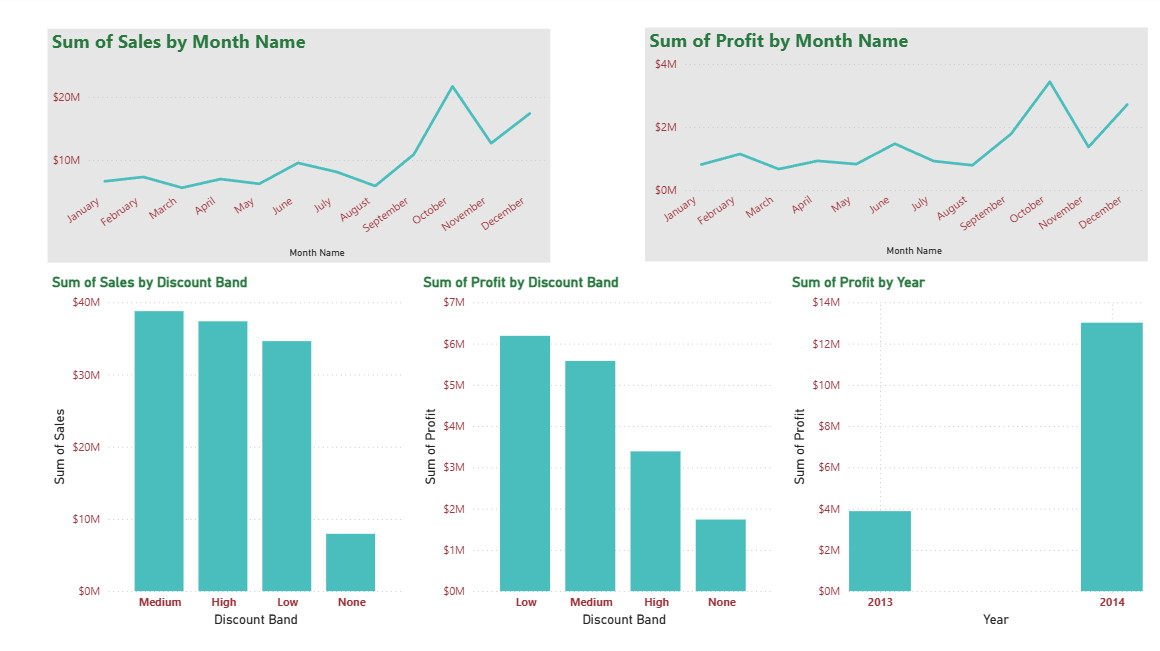

This screenshot's page, from the dashboard's own definition file:
{"tool":"powerbi","page":{"name":"Time Analysis","canvas":[1280,720],"ordinal":1},"visuals":[{"type":"lineChart","fields":{"Y":["Sum(Sheet1.Sales)"],"Category":["Sheet1.Month Name"]},"box":[52.1,37,551.6,256.6],"z":0},{"type":"lineChart","fields":{"Category":["Sheet1.Month Name"],"Y":["Sum(Sheet1.Profit)"]},"box":[708.1,35.7,551.6,256.6],"z":1000},{"type":"clusteredColumnChart","fields":{"Y":["Sum(Sheet1.Sales)"],"Category":["Sheet1.Discount Band"]},"box":[52.1,306,395.2,392.5],"z":2000},{"type":"clusteredColumnChart","fields":{"Category":["Sheet1.Discount Band"],"Y":["Sum(Sheet1.Profit)"]},"box":[459.7,306,395.2,392.5],"z":3000},{"type":"clusteredColumnChart","fields":{"Y":["Sum(Sheet1.Profit)"],"Category":["Sheet1.Year"]},"box":[864.5,306,395.2,392.5],"z":4000}]}

Visuals, with their boxes in screenshot pixels (x1, y1, x2, y2), scaled from the page's 1280x720 canvas onto the 1160x651 screenshot:
lineChart - Sum(Sheet1.Sales) x Sheet1.Month Name: l=47, t=33, r=547, b=265
lineChart - Sheet1.Month Name x Sum(Sheet1.Profit): l=642, t=32, r=1142, b=264
clusteredColumnChart - Sum(Sheet1.Sales) x Sheet1.Discount Band: l=47, t=277, r=405, b=632
clusteredColumnChart - Sheet1.Discount Band x Sum(Sheet1.Profit): l=417, t=277, r=775, b=632
clusteredColumnChart - Sum(Sheet1.Profit) x Sheet1.Year: l=783, t=277, r=1142, b=632
